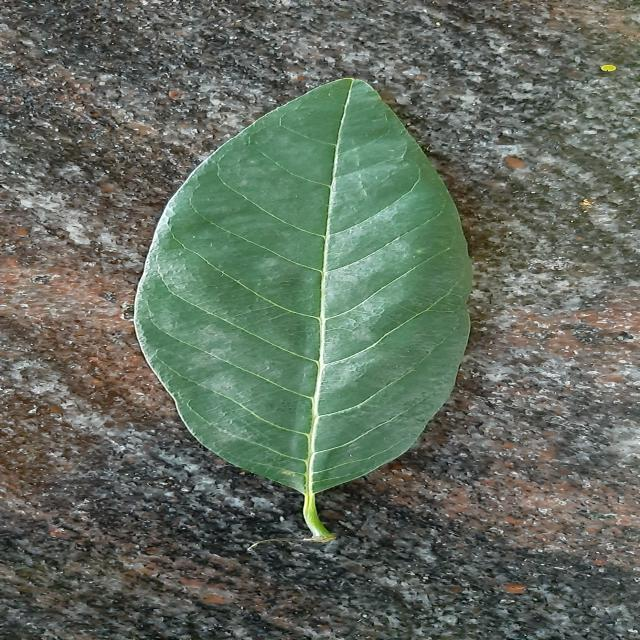seethaphala: (135, 79, 471, 540)
